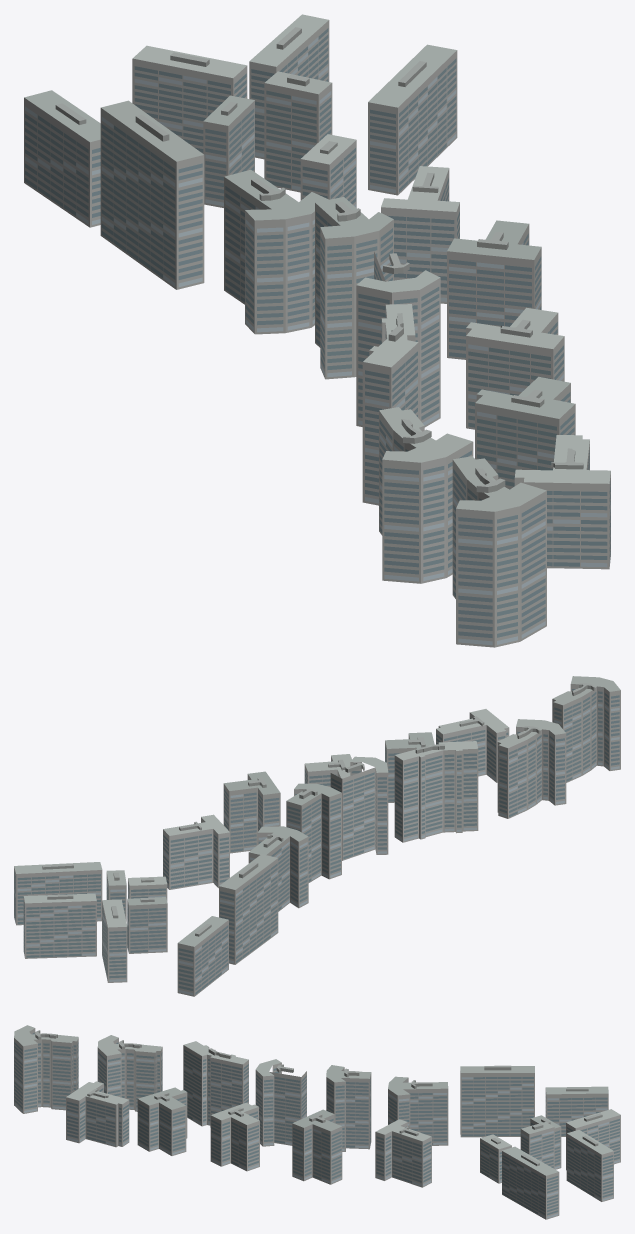
The model's file is apt-a15603008.glb.
The picture shows the model from 3 angles, top to bottom: view 1: azimuth 30°, elevation 25°; view 2: azimuth 150°, elevation 25°; view 3: azimuth 270°, elevation 25°; orthographic projection. The views are drawn at different scales.
Visible parts, largest first — view 1: apt-a15603008; view 2: apt-a15603008; view 3: apt-a15603008.
Part boxes in pixels (left/top/right/bottom): apt-a15603008: left=24, top=14, right=610, bottom=647; apt-a15603008: left=14, top=676, right=620, bottom=996; apt-a15603008: left=14, top=1025, right=620, bottom=1219.
Size of the model in its own units: 219 by 59 by 443.
